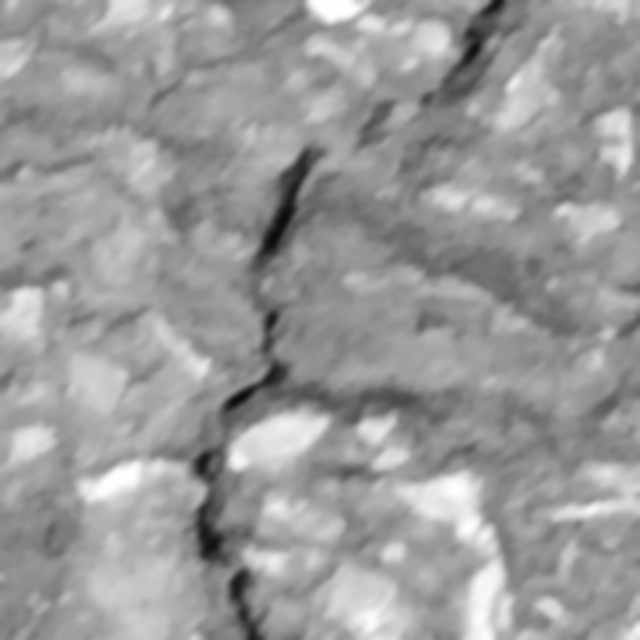SurfaceCrack: (137, 1, 478, 639)
